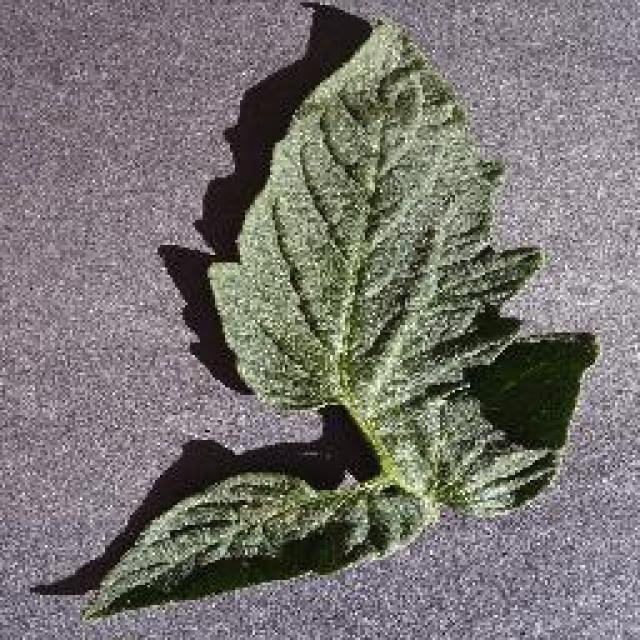Tomato healthy leaf: (79, 30, 589, 590)
